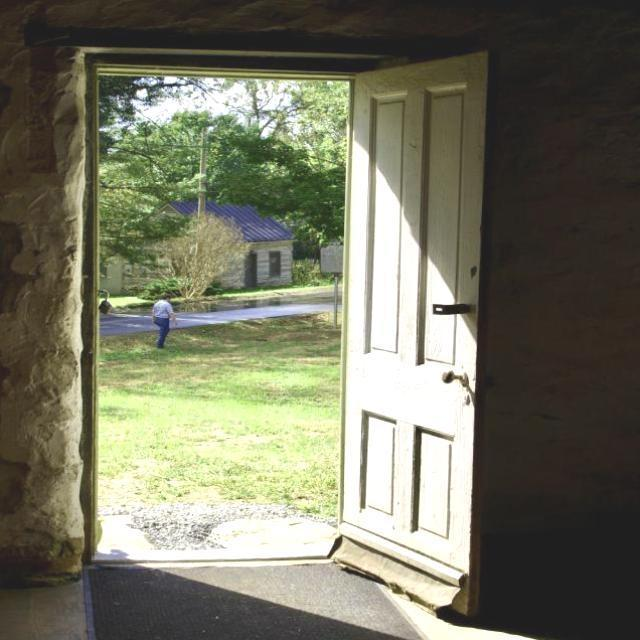door: (336, 50, 487, 595)
